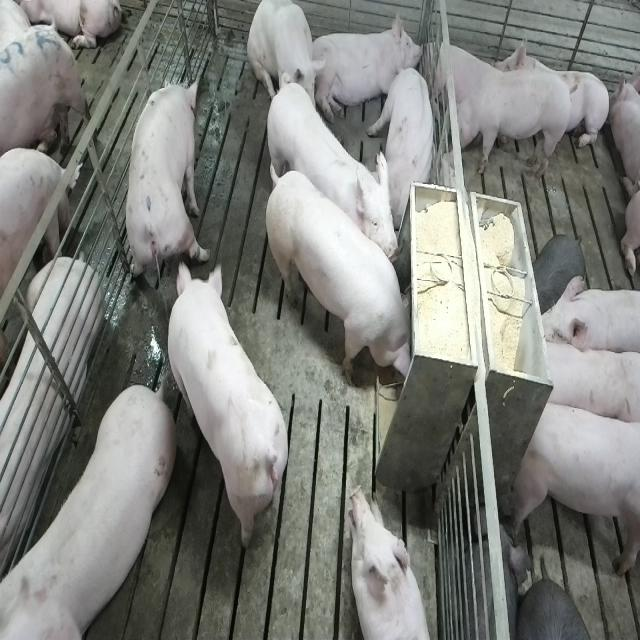Feeding: (270, 163, 421, 389)
Sitting: (247, 1, 322, 130)
Standing: (0, 385, 172, 639), (170, 264, 294, 554), (263, 75, 398, 269), (510, 396, 639, 582), (123, 73, 208, 295), (0, 22, 89, 180), (446, 69, 575, 177), (539, 332, 639, 429), (536, 276, 640, 358)
Sternal_lying: (495, 30, 608, 157), (348, 485, 432, 640), (314, 11, 424, 129), (427, 34, 500, 122)
